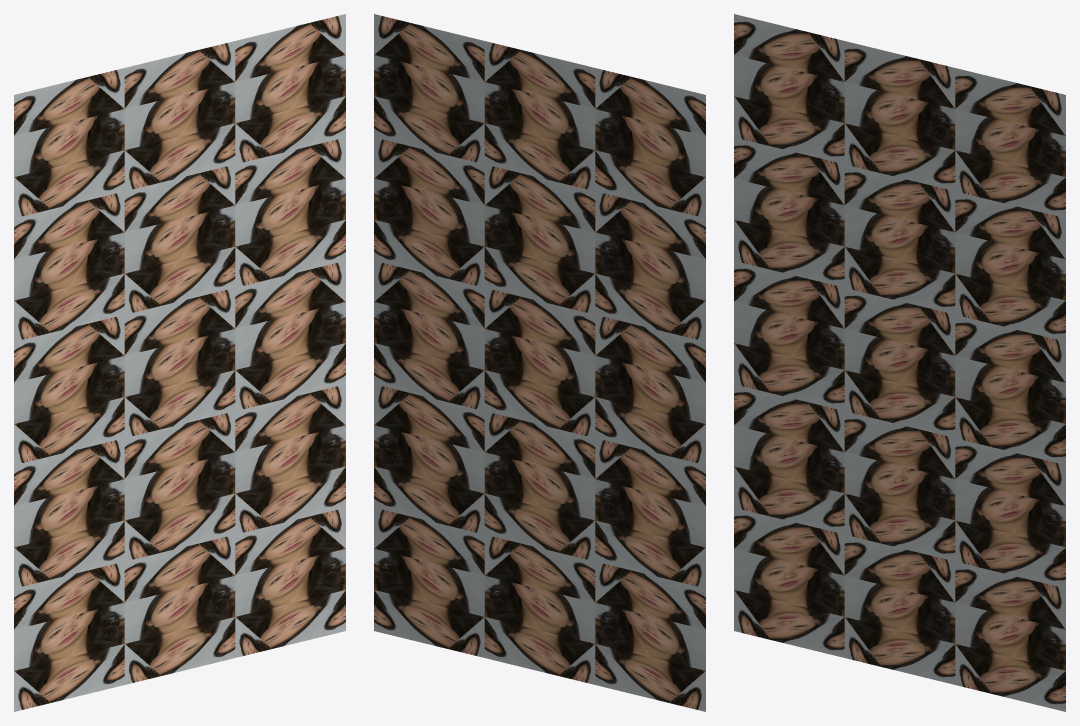
The model's file is UvFuckery3.fbx.
3 views of the same model, side by side, from view 1: azimuth 30°, elevation 25°; view 2: azimuth 150°, elevation 25°; view 3: azimuth 330°, elevation 25° (orthographic).
Parts seen in each view (by area): view 1: Plane; view 2: Plane; view 3: Plane.
Boxes of the visible parts, <box> form: Plane: <box>14,14,345,711</box>; Plane: <box>374,14,705,711</box>; Plane: <box>734,14,1065,711</box>.
Bounding box in the file's own units: 720 × 1280 × 3.63e-13.
Materials: 1 (1 with a texture image).
